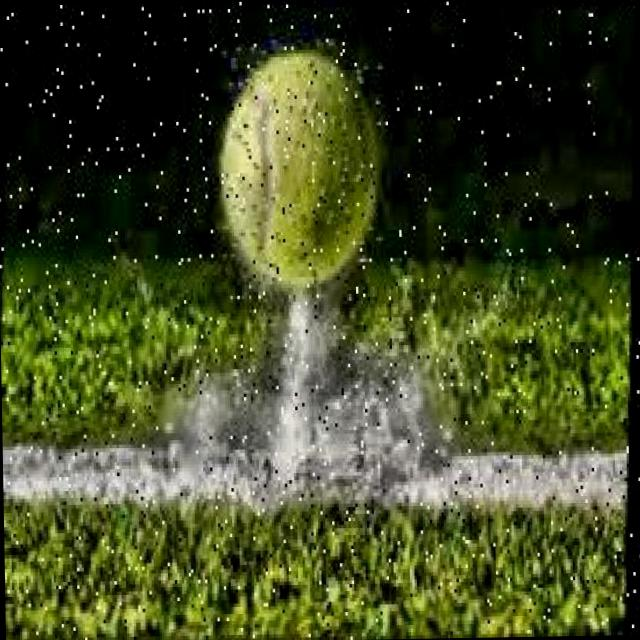Tennis Ball: (212, 36, 389, 305)
